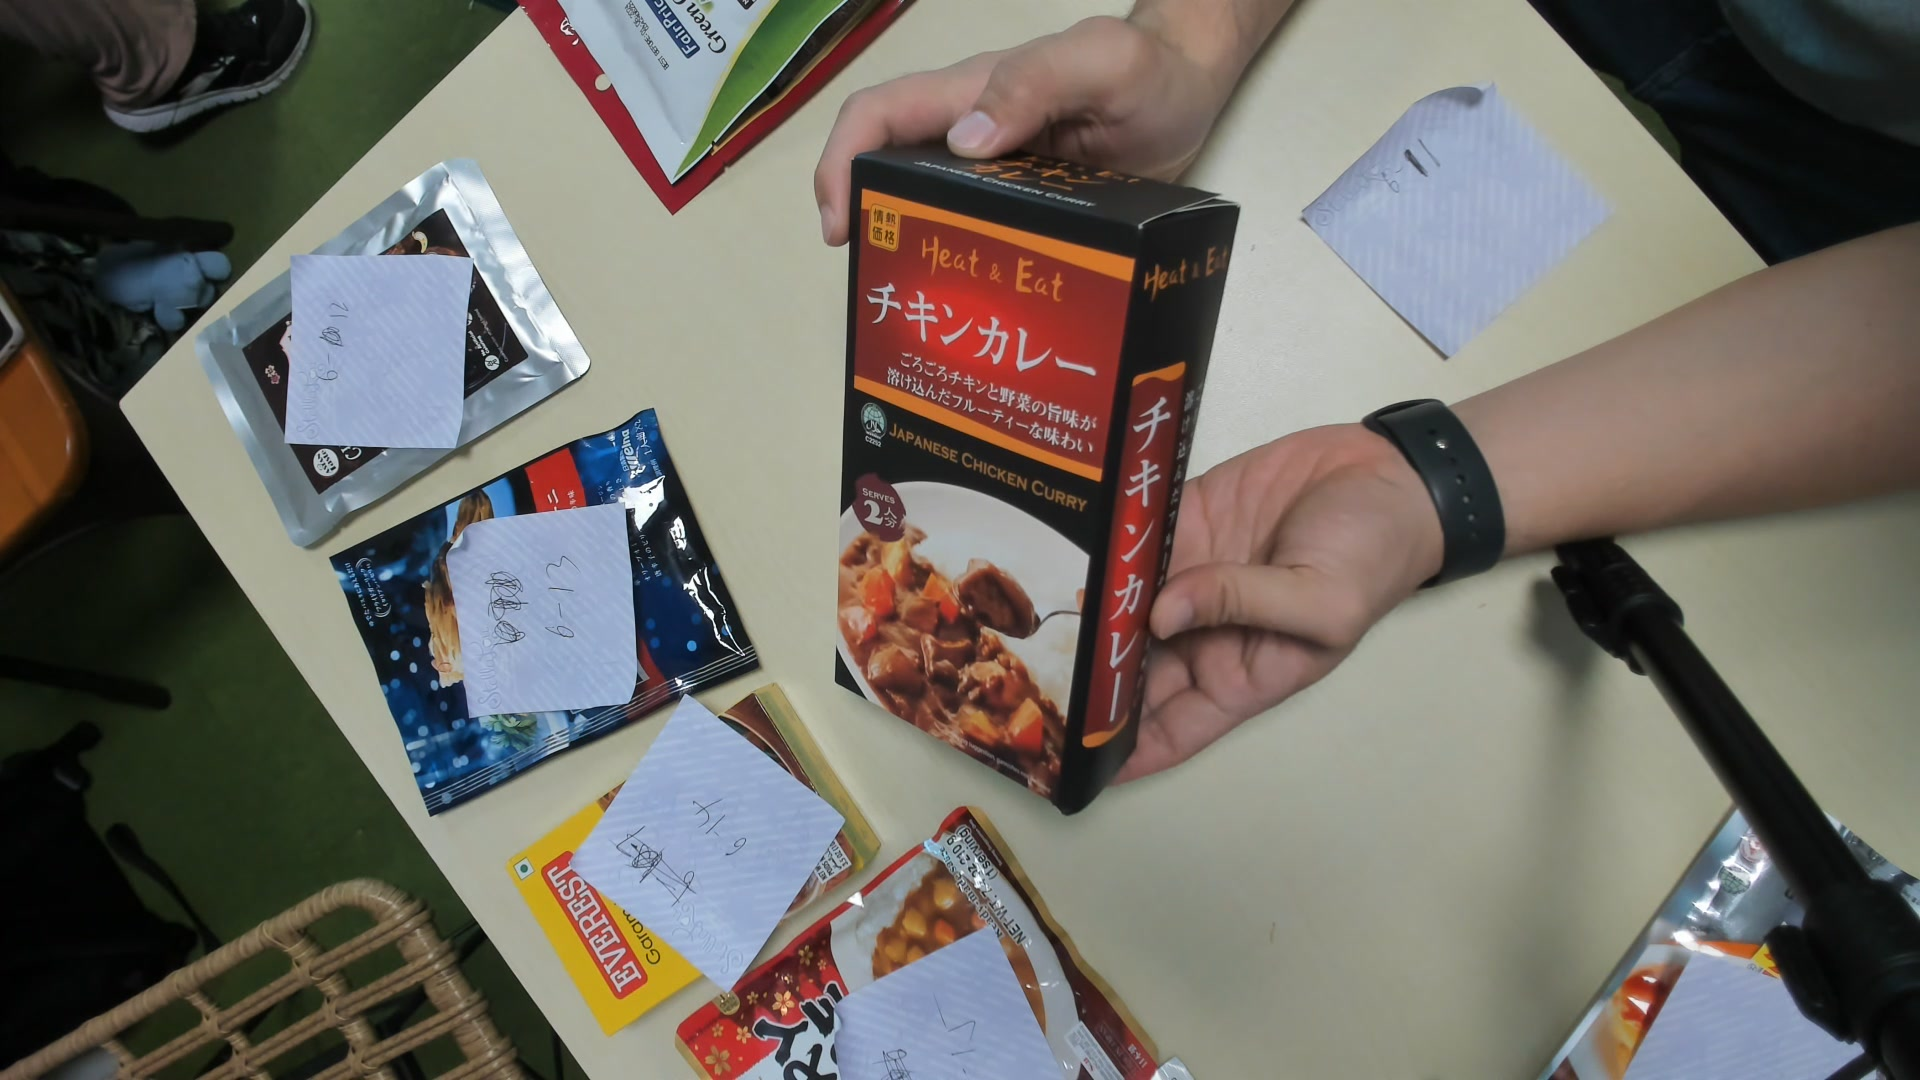CurryPastePowderSauce_200-299g_Halal_NonHealthy: (831, 131, 1238, 810)
